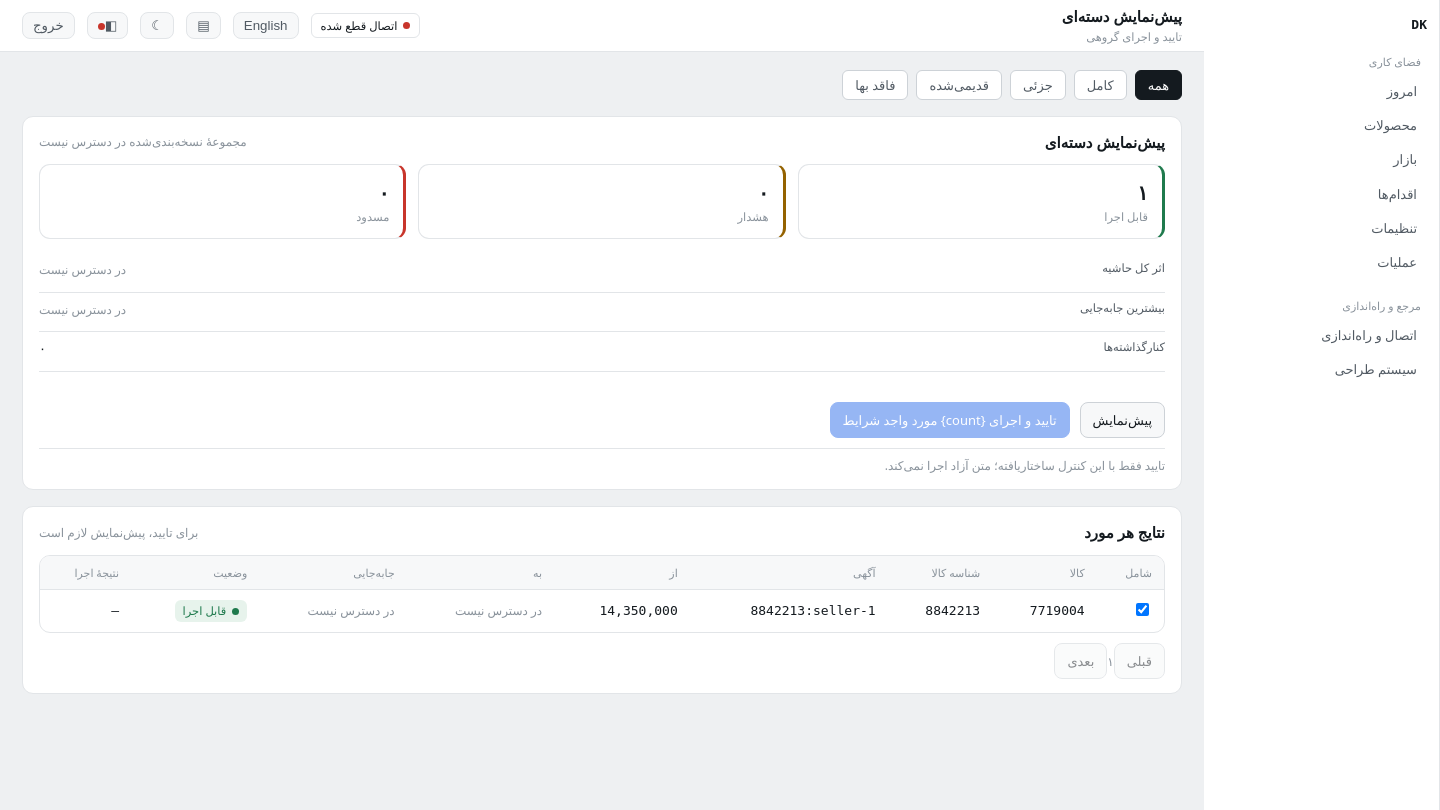
Test: Bulk approval (journey 3 — SERVER-minted selection set, APR-001 at set level) › preview mints the set SERVER-side and the confirmation binds to exactly that lineage + version
Expected: the button with test id "bulk-approve" is disabled, [830, 402, 1070, 438]
// Preview POSTs the selected membership and binds to the server's response.
Click the button with test id "bulk-preview".
click(1122, 420)  # box [1080, 402, 1165, 438]
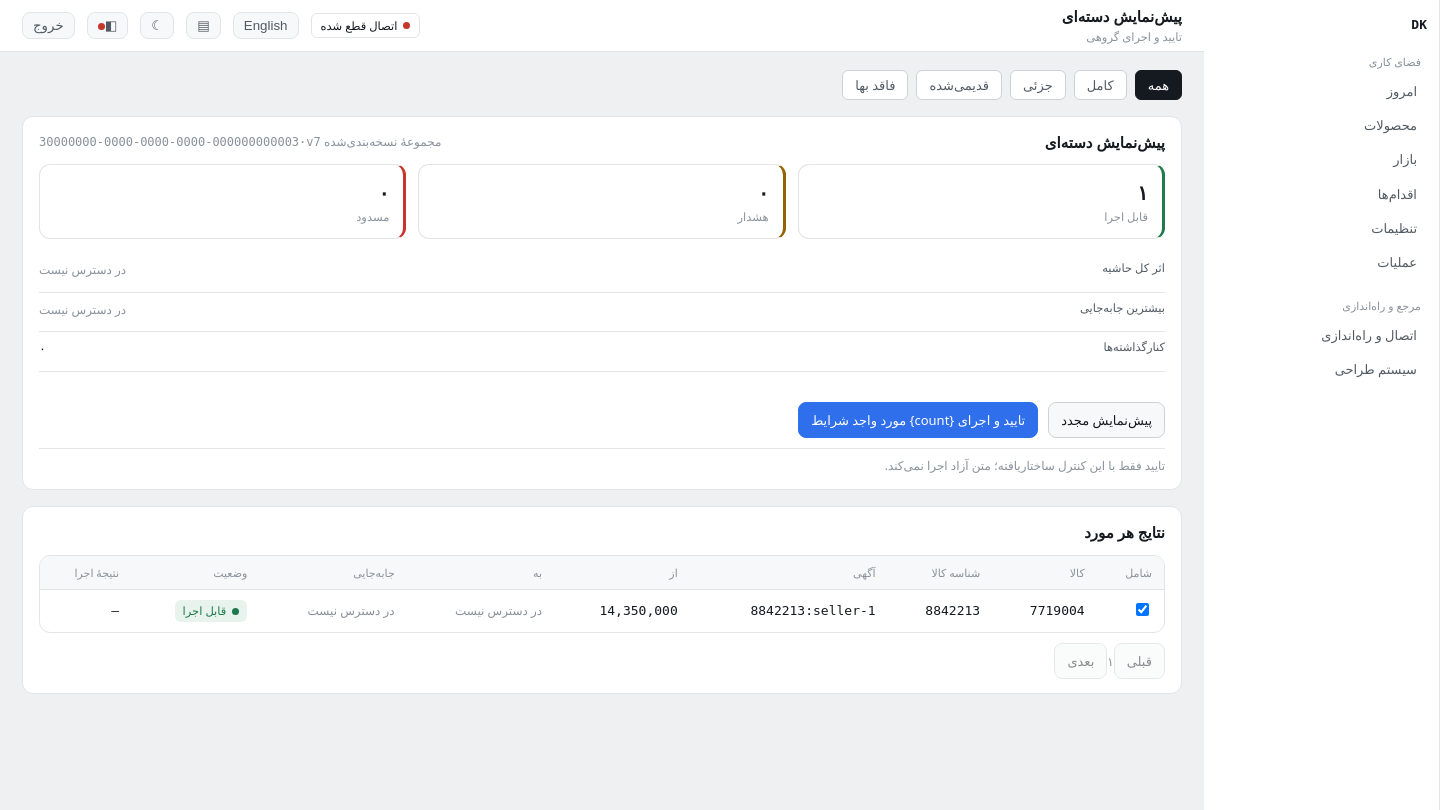
Now the button with test id "bulk-approve" is enabled, box [798, 402, 1038, 438]
Click the button "کامل".
click(1100, 85)  # box [1074, 70, 1127, 100]
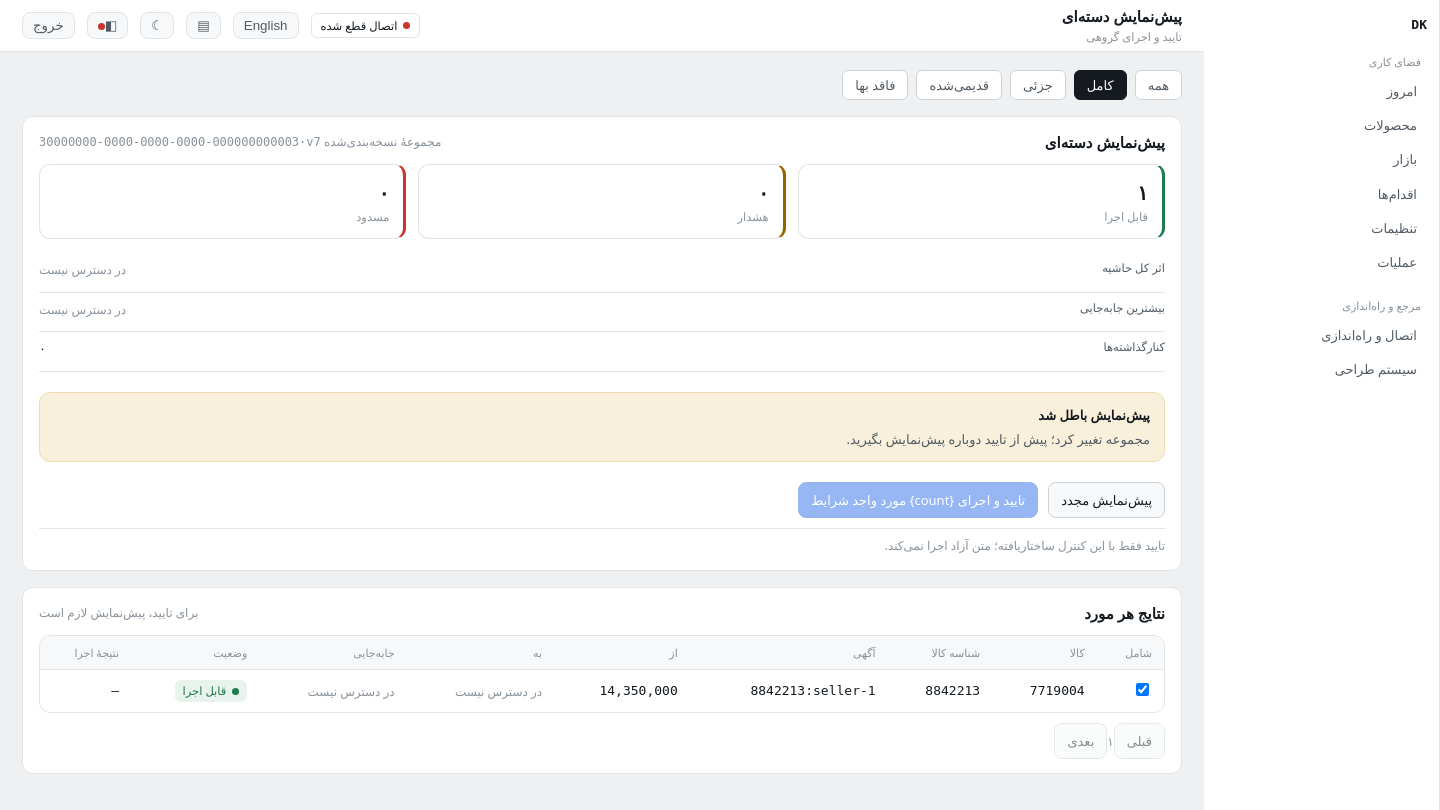
Now the message "پیش‌نمایش باطل شد مجموعه تغییر کرد؛ پیش از تایید دوباره پیش‌نمایش بگیرید." is shown, box [39, 392, 1165, 462]
Now the button with test id "bulk-approve" is disabled, box [798, 482, 1038, 518]
Click the button with test id "bulk-preview".
click(1107, 500)  # box [1048, 482, 1165, 518]
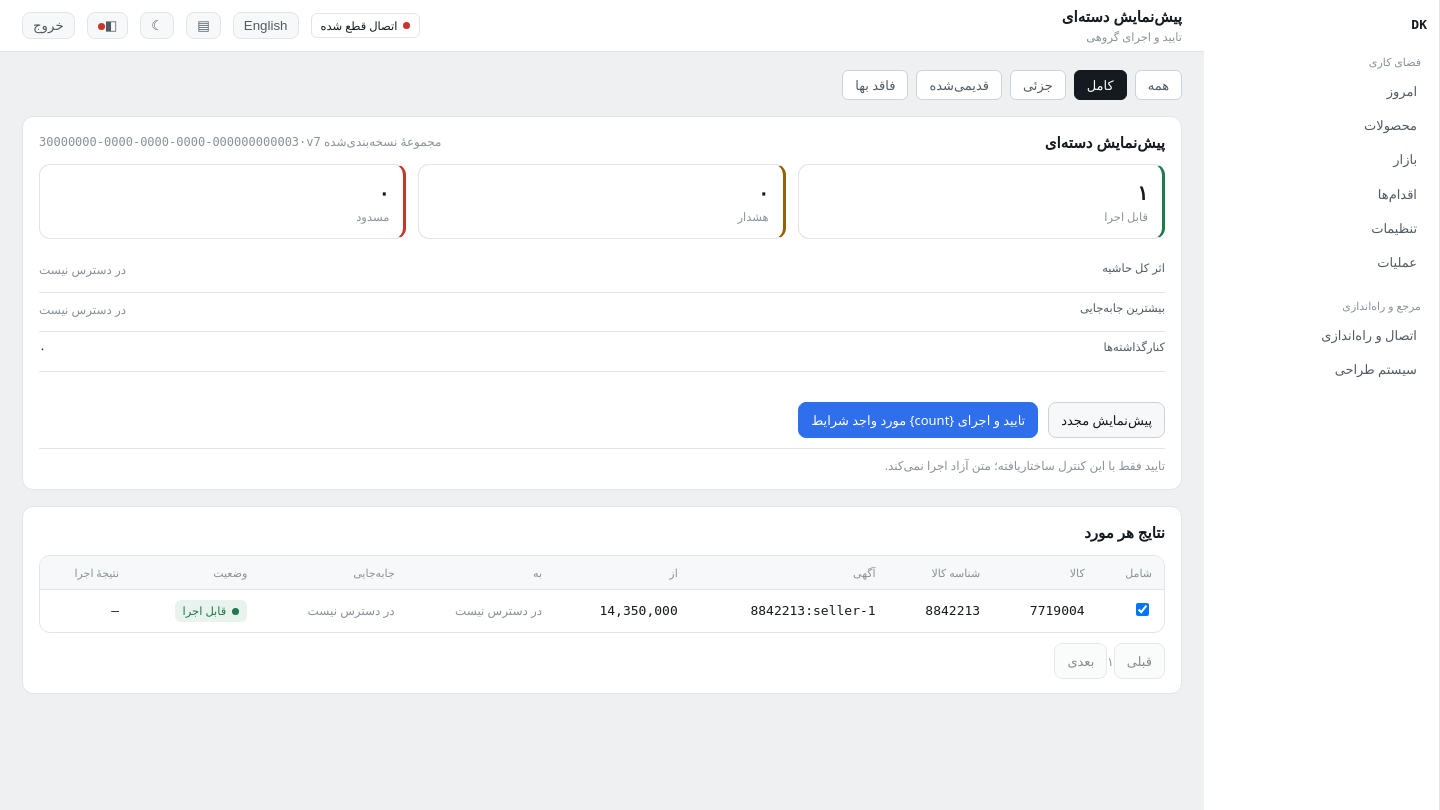
Now the button with test id "bulk-approve" is enabled
Click the button with test id "bulk-approve".
click(918, 420)  # box [798, 402, 1038, 438]
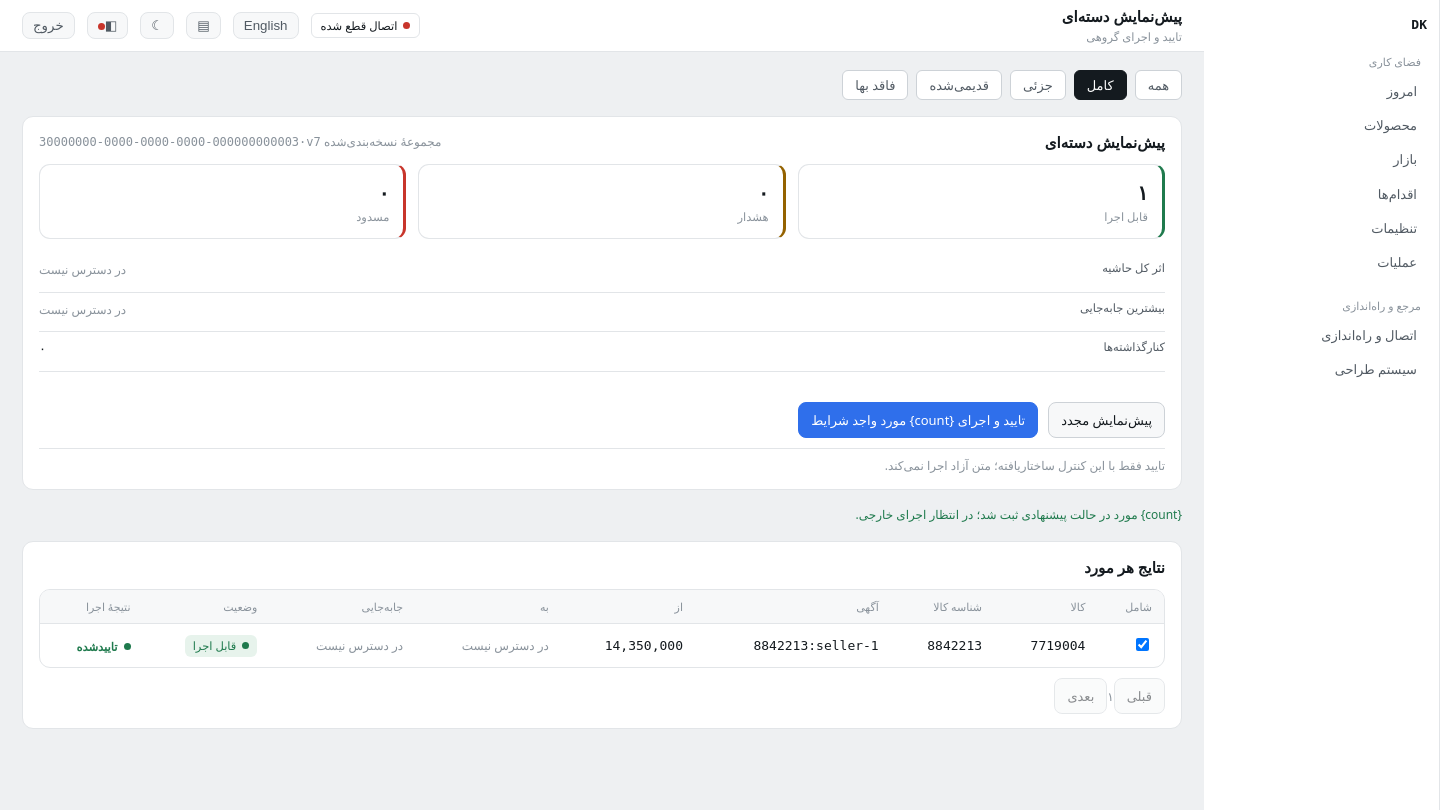
Now the text "{count} مورد در حالت پیشنهادی ثبت شد؛ در انتظار اجرای خارجی." is shown, box [856, 506, 1182, 523]
